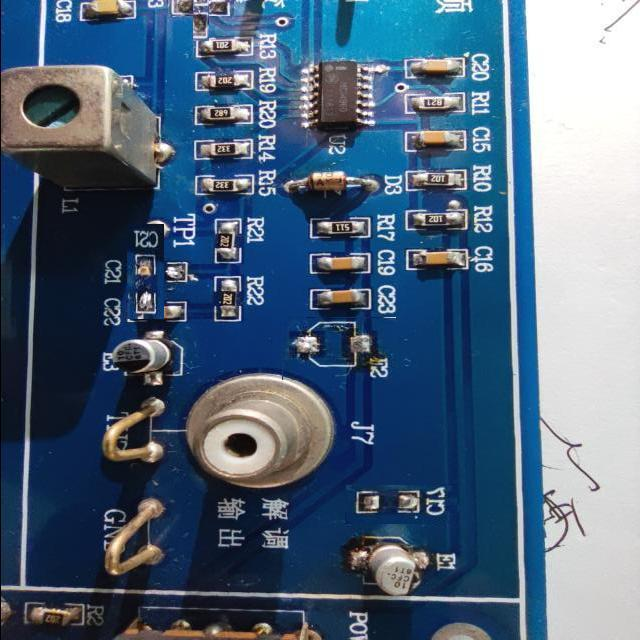miss_welding: (282, 317, 396, 380), (345, 484, 457, 524), (112, 239, 179, 305), (180, 0, 221, 28)
